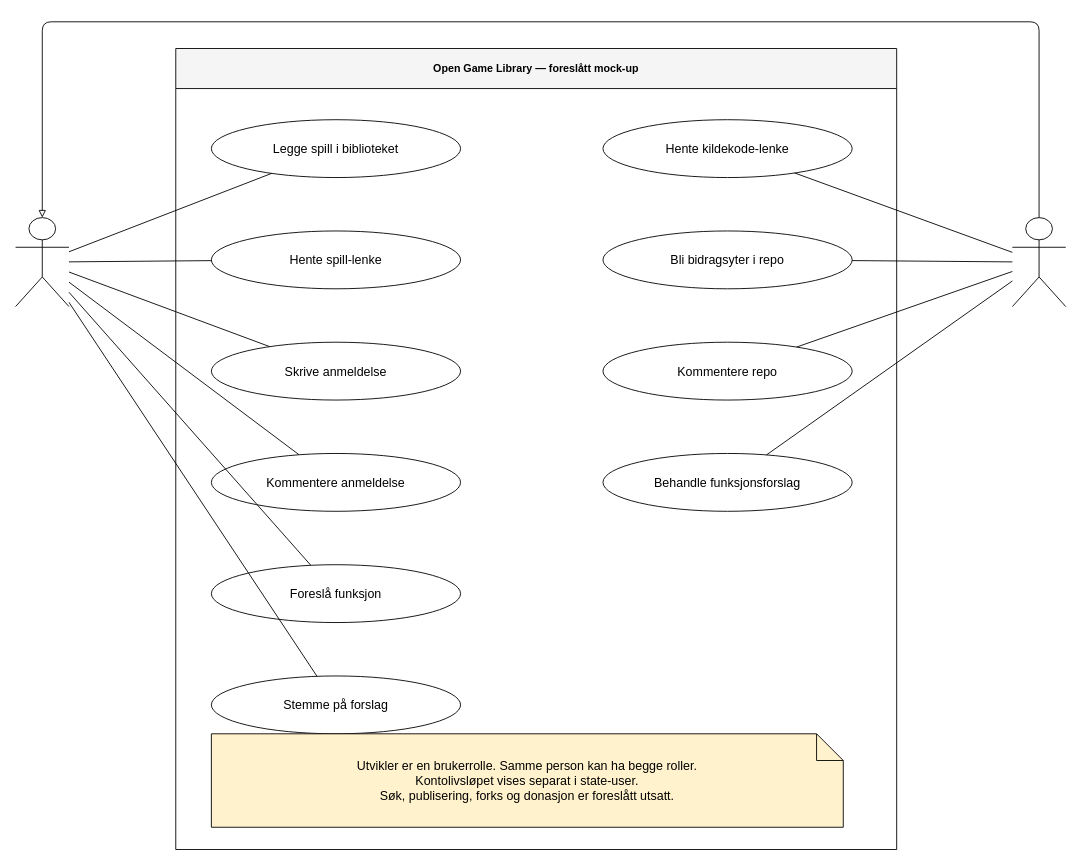
The diagram is 1081 pixels wide and 865 high, and some of its shapes have lost their labels. The centre of each missing label's shape, as x and y in pixels:
"Spiller" belongs at point (42, 262).
"Utvikler" belongs at point (1038, 262).
